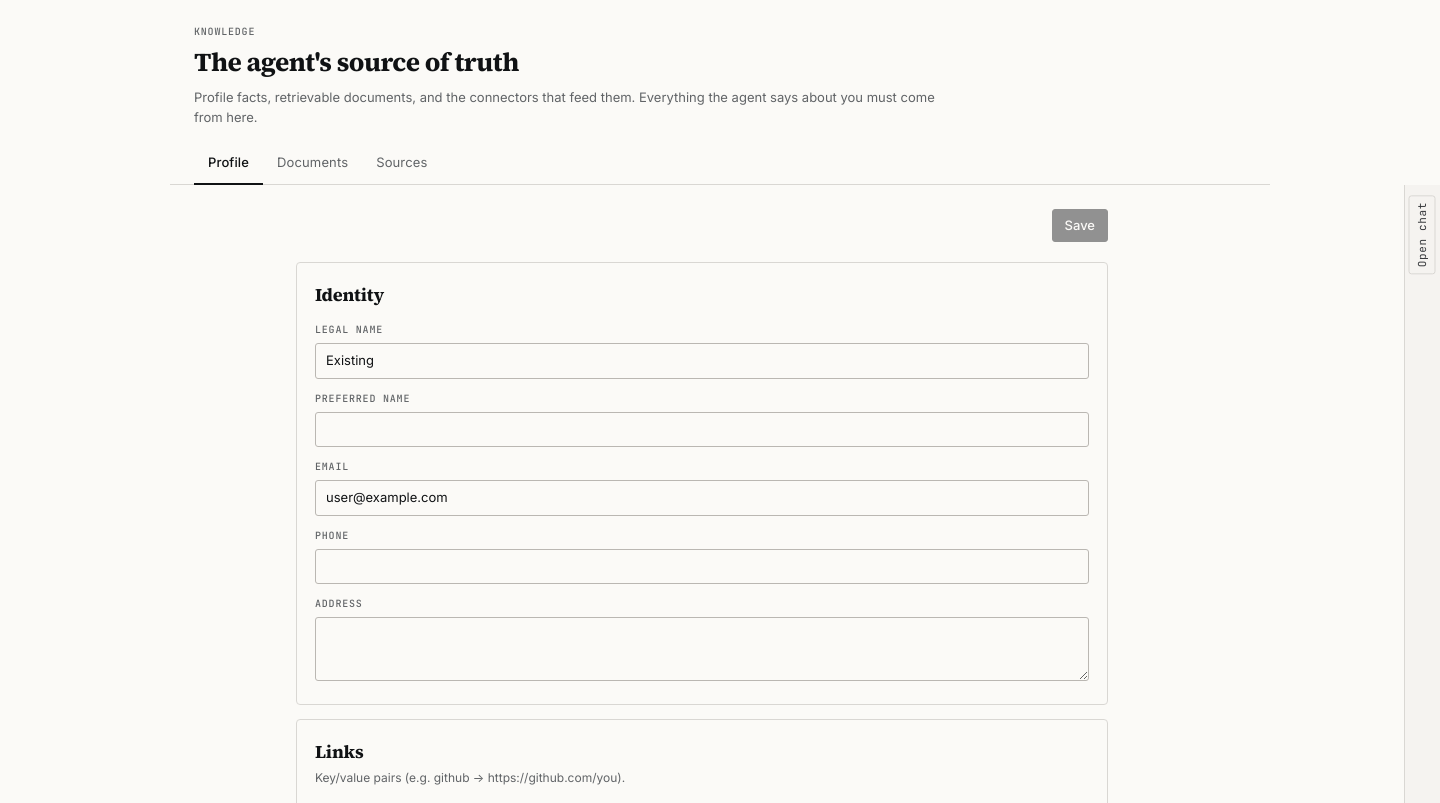
Scenario: clicking a tab switches the rendered panel and updates the URL
The image size is (1440, 803).
Expected: the field showing "Existing" is shown, [315,343,1089,378]
Step 1. Click the tab with test id "knowledge-tab-sources" → (402, 164), box [362,143,442,184]
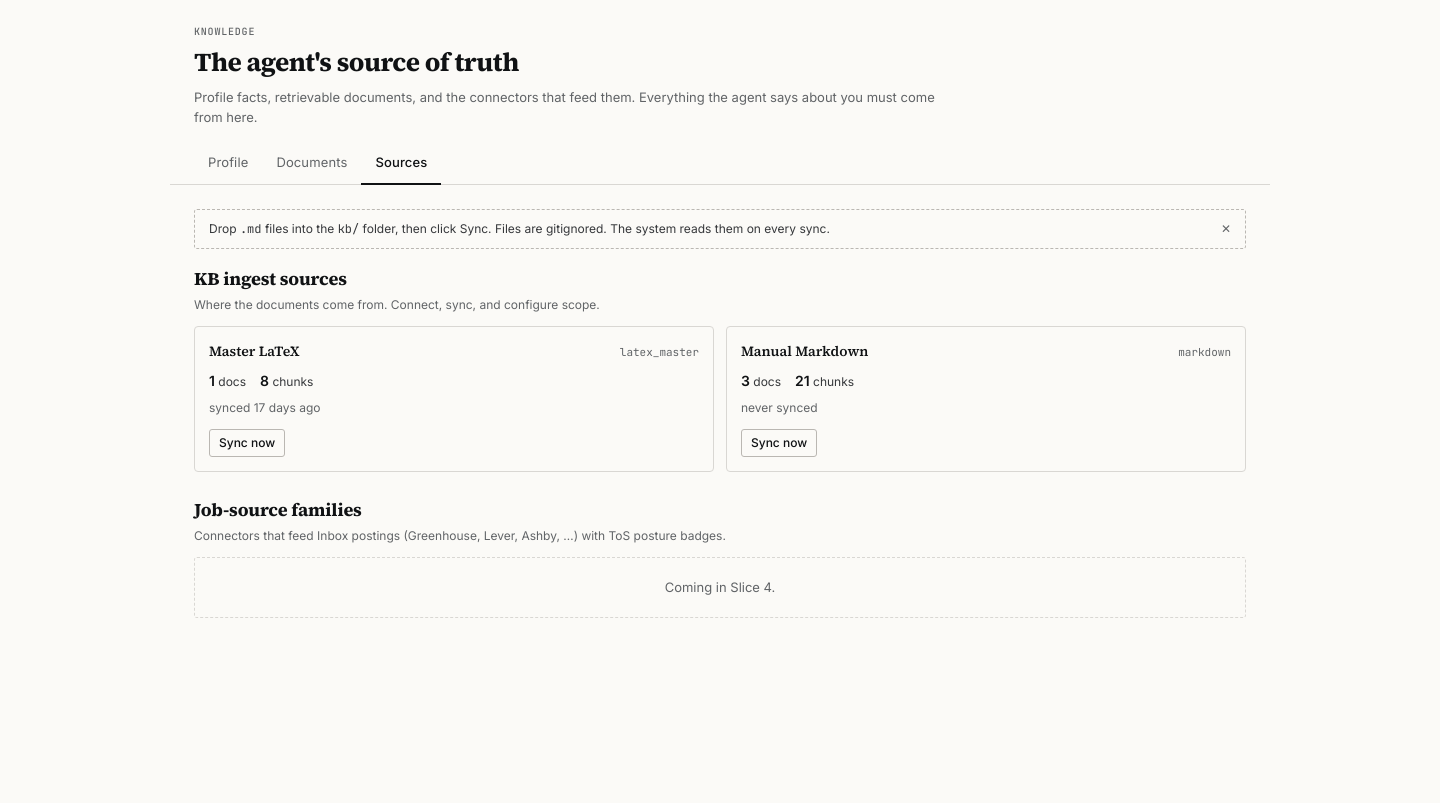
Expected: the heading "Master LaTeX" is shown, [209,340,300,362]
Step 2. Click the tab with test id "knowledge-tab-documents" → (312, 164), box [262,143,362,184]
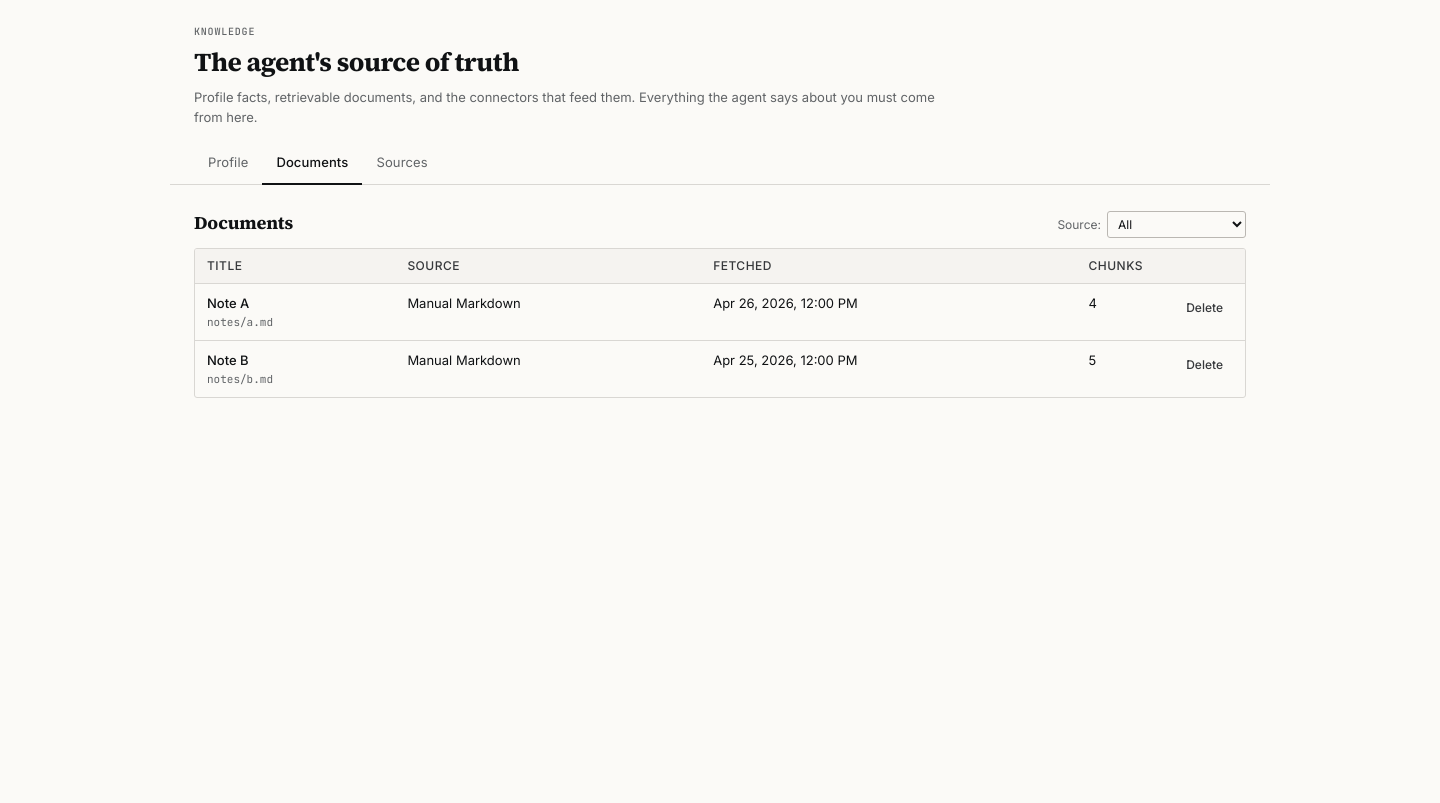
Expected: the text "Note A" is shown, [207,295,249,311]
